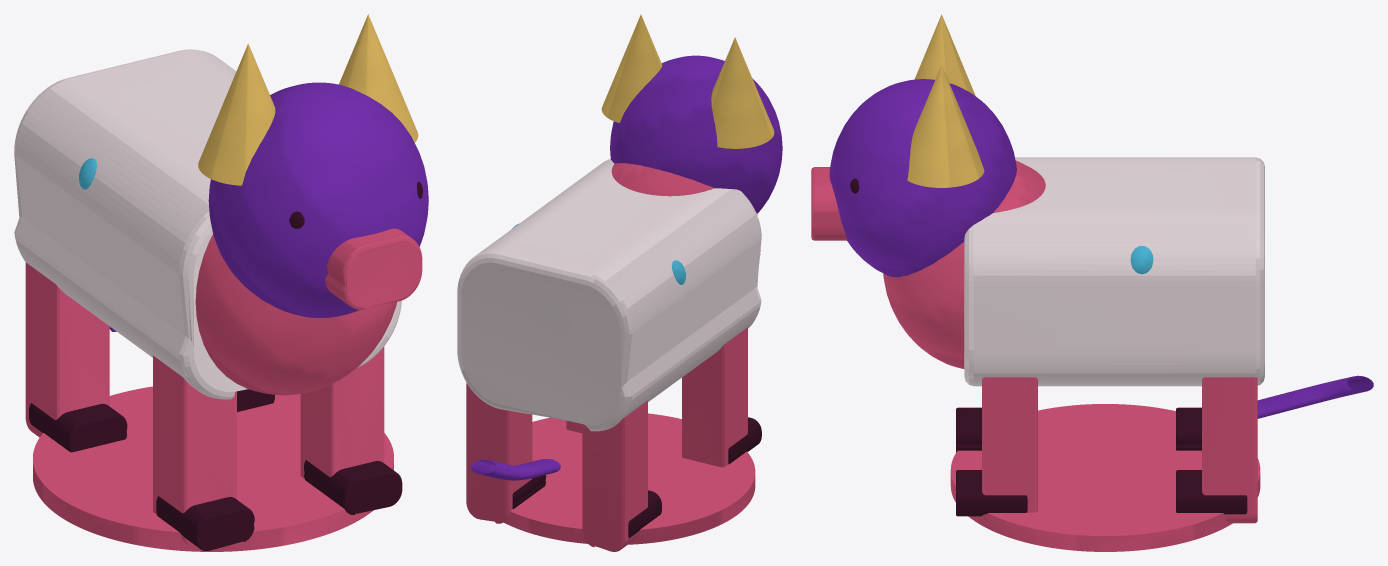
File: 0884_森林动物图鉴_金花蛇.glb
The picture shows the model from 3 angles, left to right: view 1: azimuth 30°, elevation 25°; view 2: azimuth 150°, elevation 25°; view 3: azimuth 270°, elevation 25°; orthographic projection. The views are drawn at different scales.
Visible parts, largest first — view 1: card_0884; view 2: card_0884; view 3: card_0884.
Boxes of the visible parts, x1,y1,x2,y2 form: card_0884: (14, 14, 428, 551); card_0884: (457, 14, 782, 551); card_0884: (811, 14, 1373, 551).
Size of the model in its own units: 0.6342 by 1 by 1.14.
